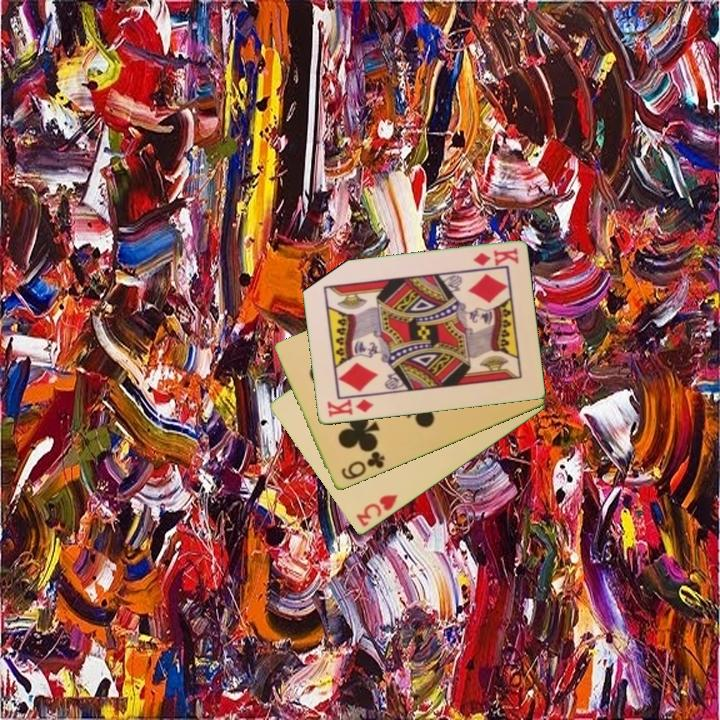3h: (353, 491, 401, 530)
6c: (337, 448, 388, 483)
Kd: (324, 396, 376, 420), (469, 245, 521, 269)
